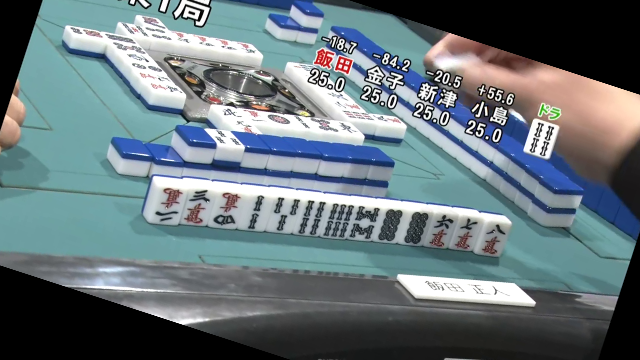Tehai: (130, 173, 520, 259), (132, 176, 515, 263)
